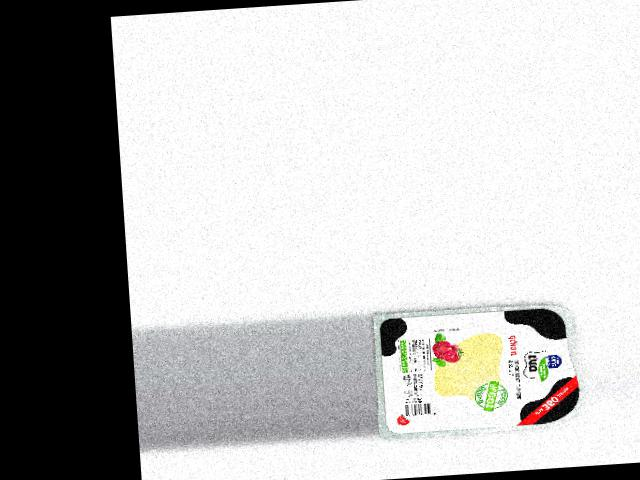cheese: (371, 300, 588, 440)
